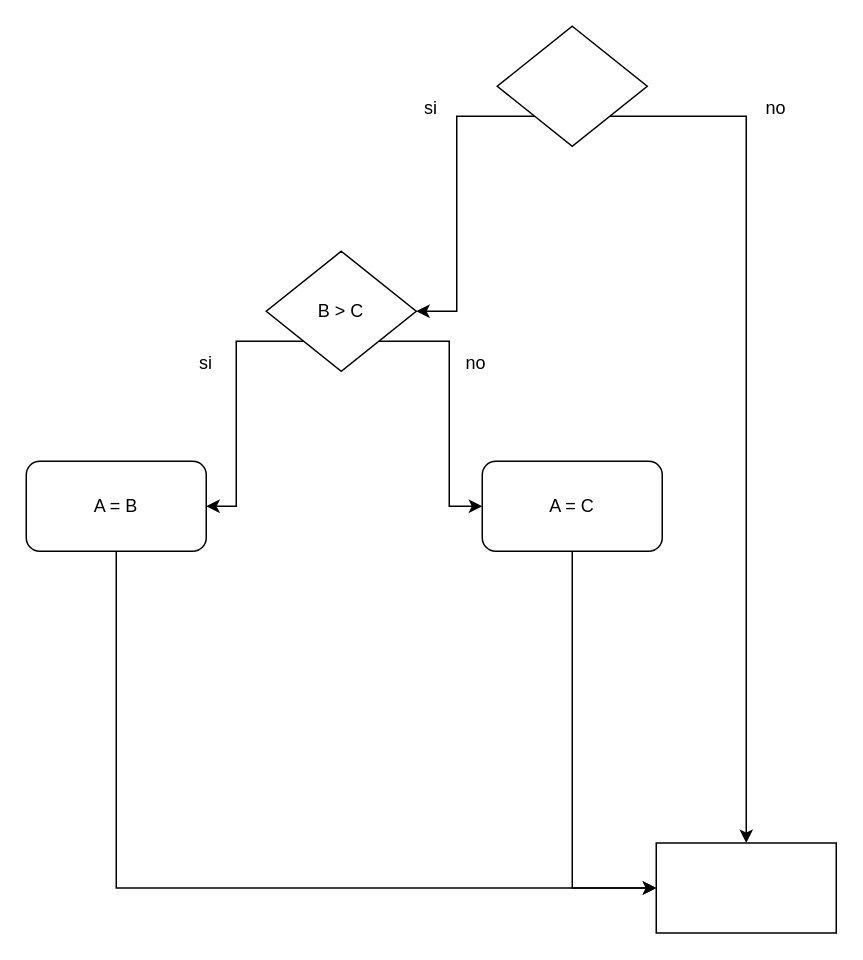
Some shapes in this 863 by 960 pixel diagram are drawn without their labels. The shapes that lost their labels are listed below. From the top down, each one's centre as x and y in pixels, then its label:
At point (571, 85): "A = 354".
At point (745, 887): "Print A".
